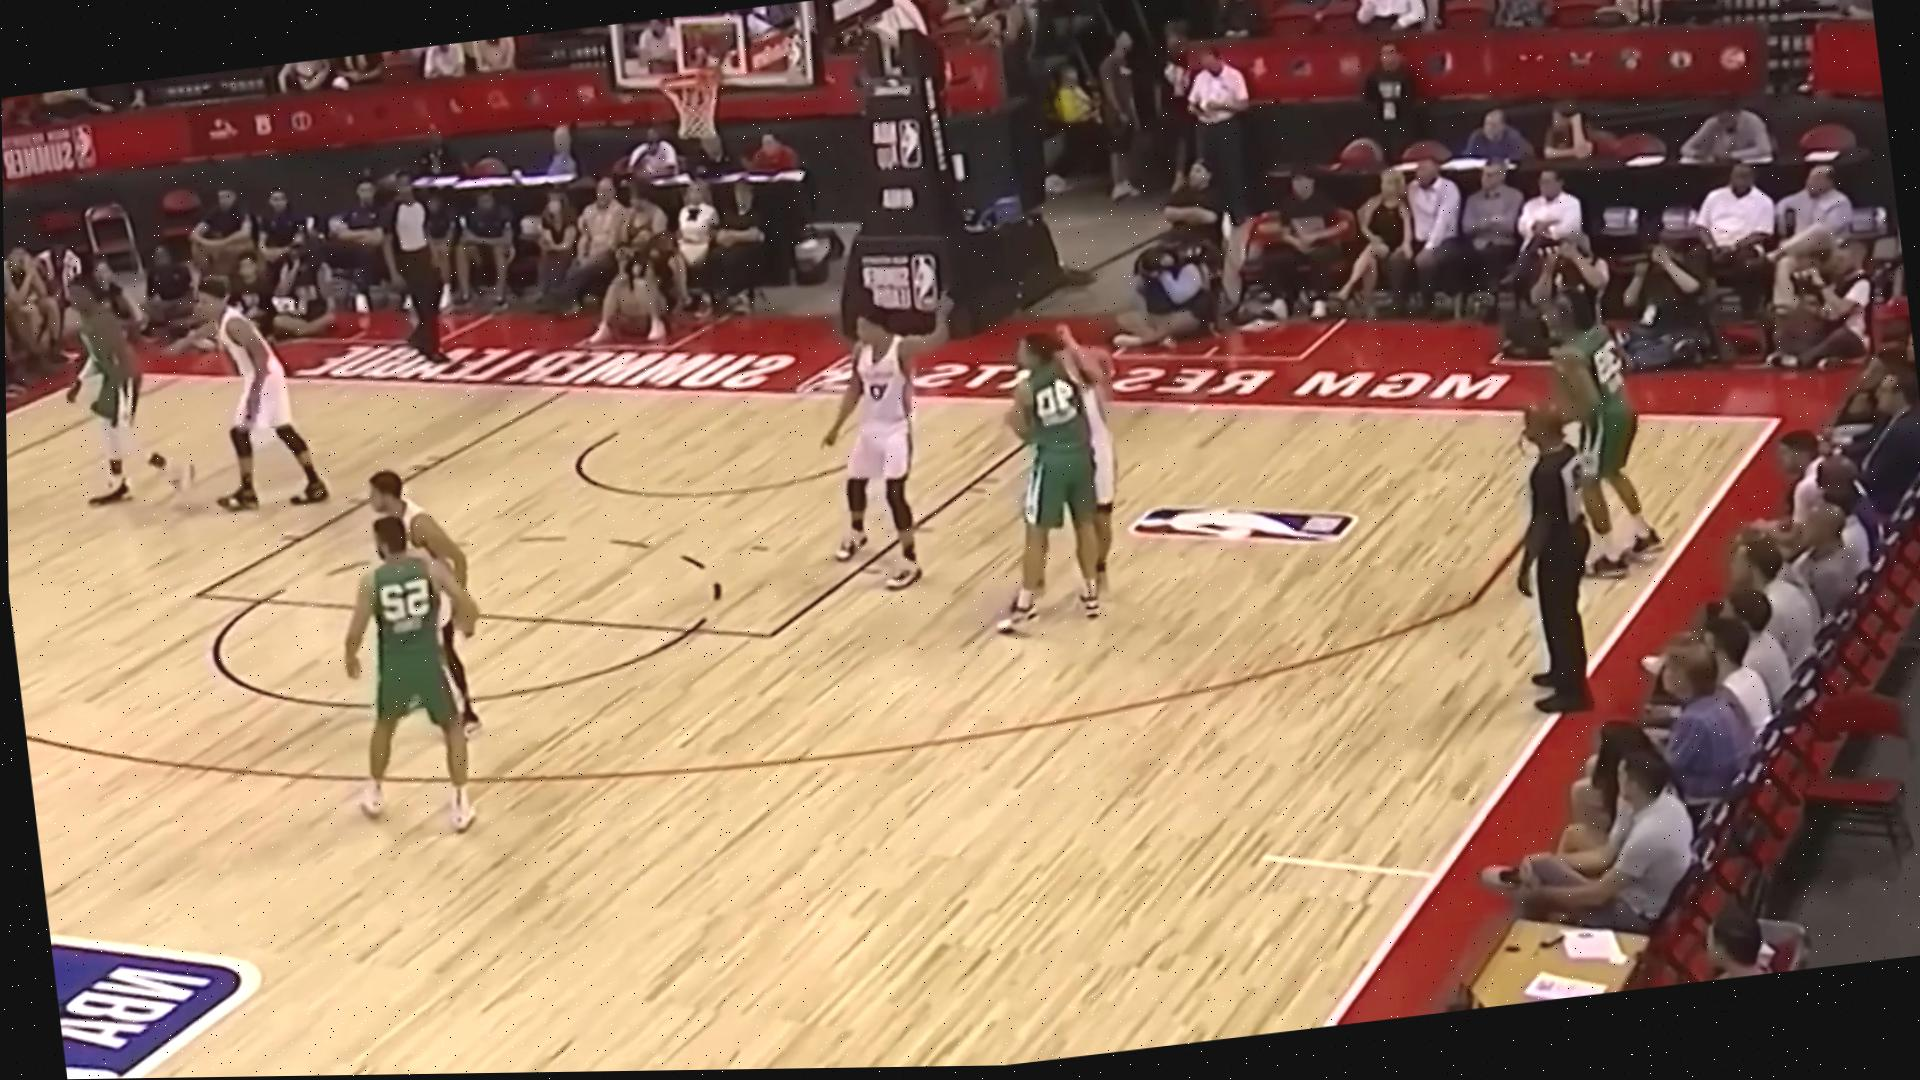foul: (945, 285, 1166, 637)
